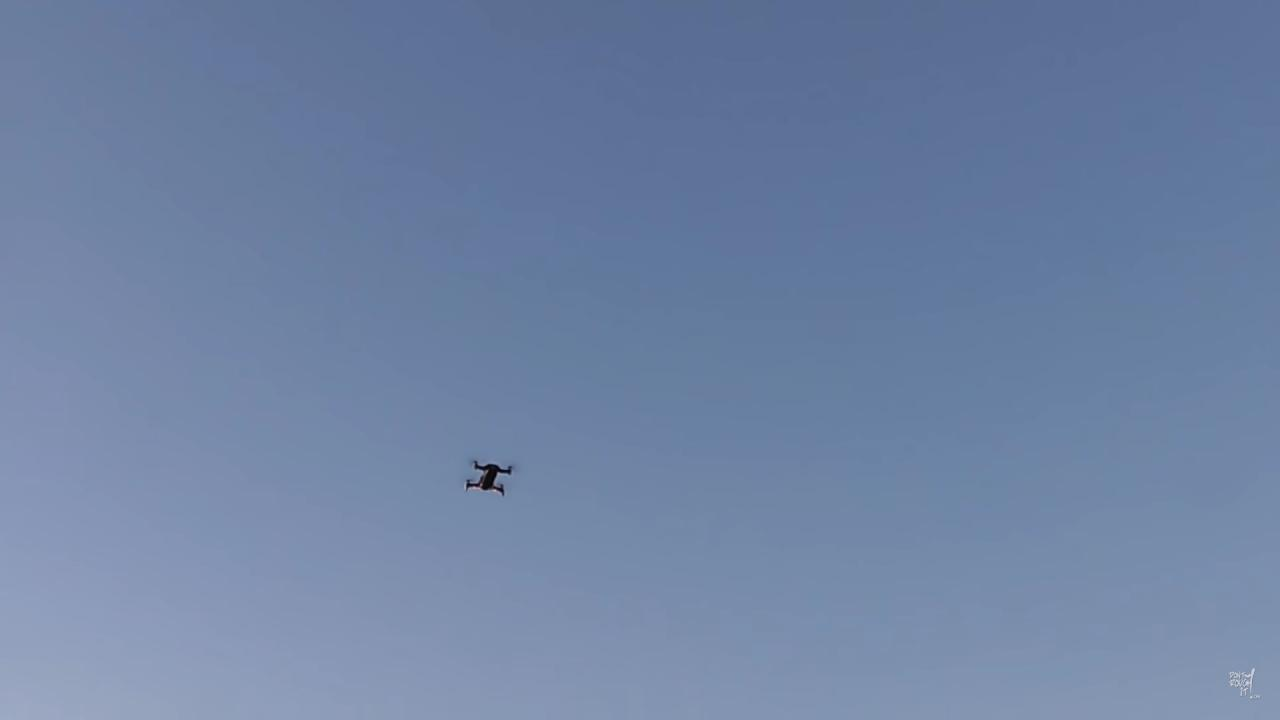Drone: (449, 447, 528, 510)
